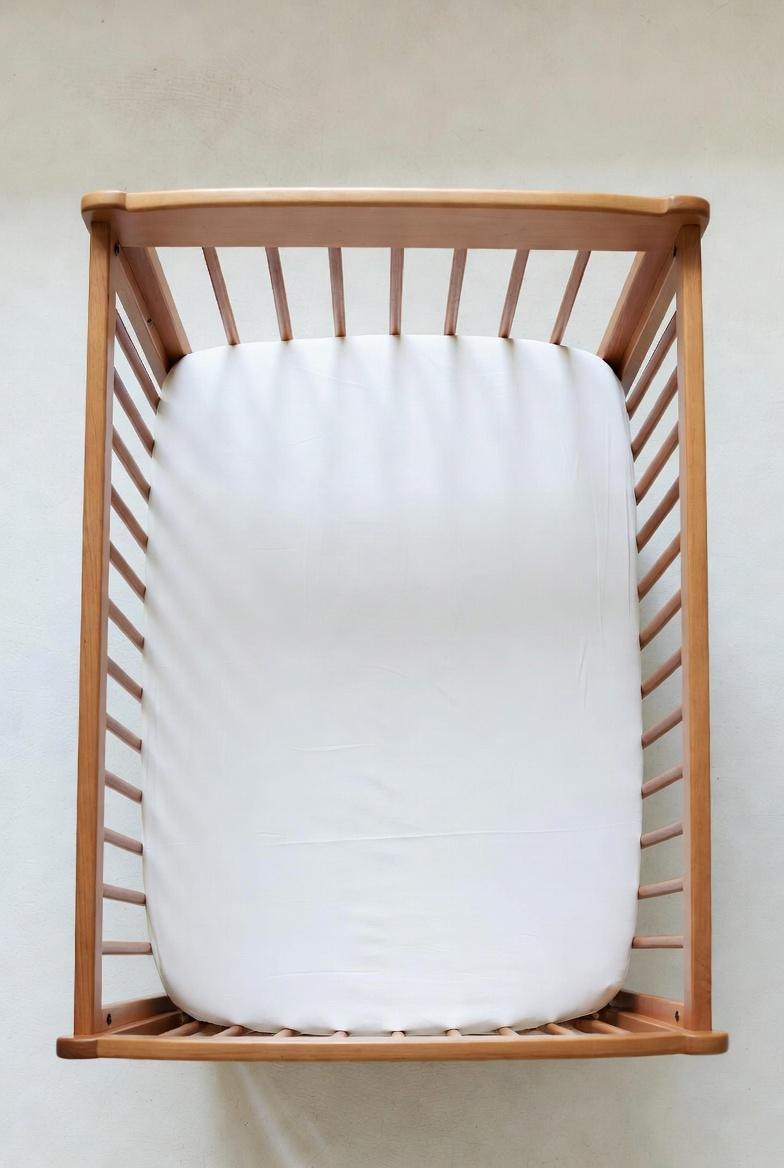crib: (58, 190, 727, 1061)
